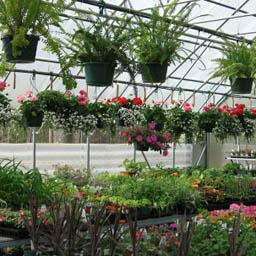Matera: (2, 2, 63, 80), (75, 21, 134, 95), (133, 19, 189, 88), (213, 35, 254, 97)
